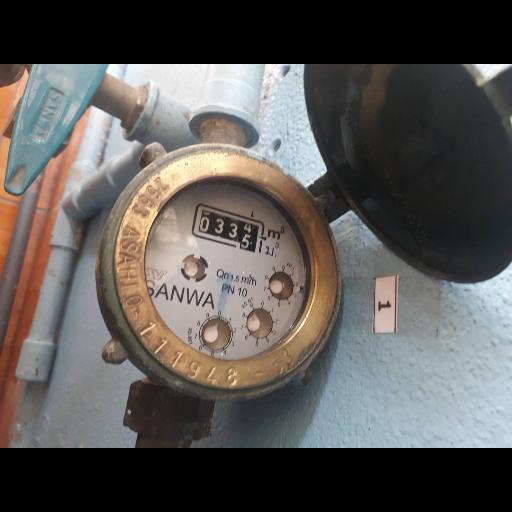0: (197, 209, 216, 235)
3: (225, 217, 245, 243), (211, 213, 230, 239)
5: (239, 221, 260, 252)
border_water_meter_number: (188, 202, 270, 255)
